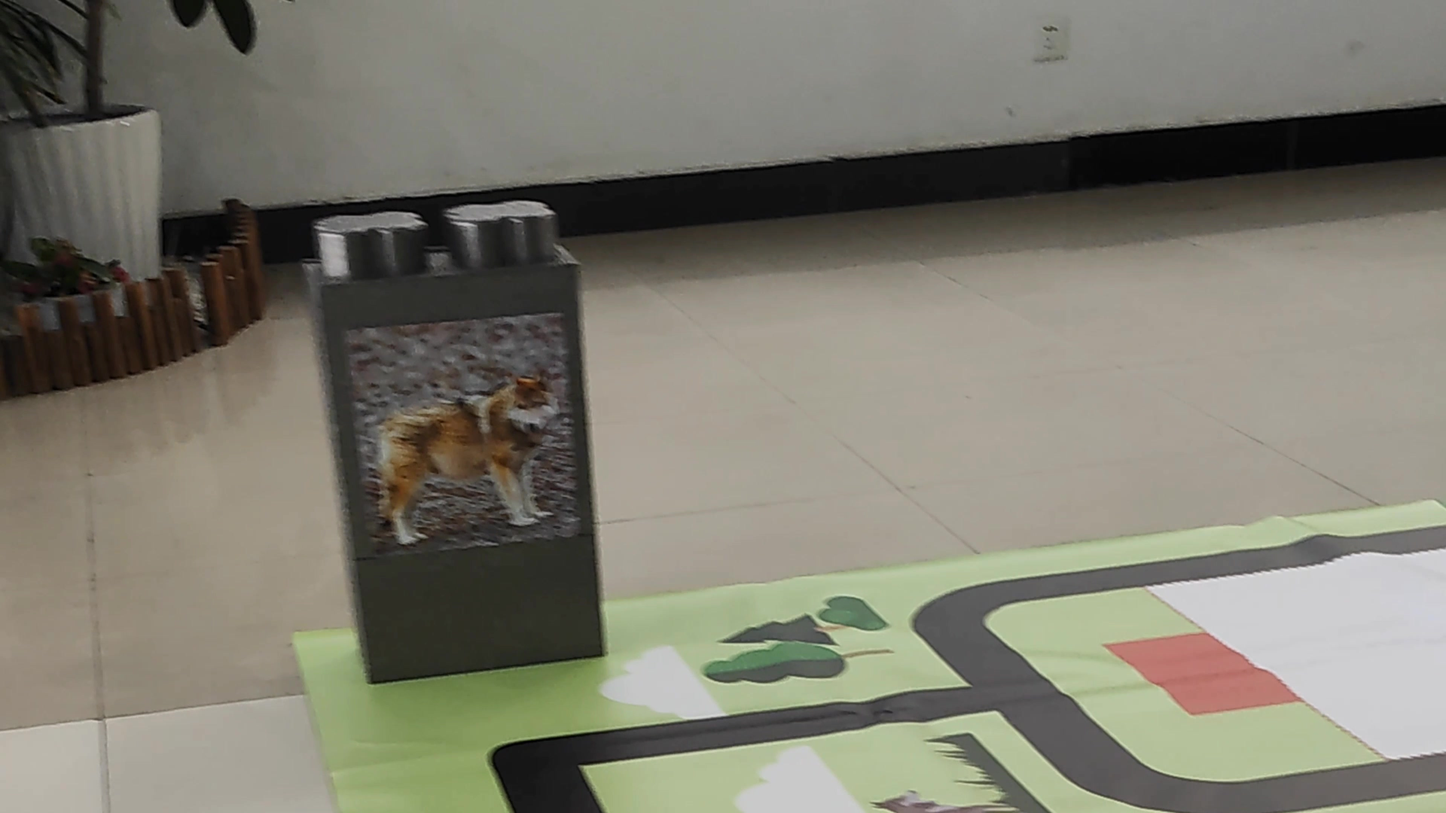wolf: (356, 332, 579, 550)
